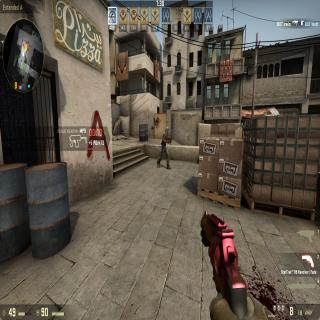T-Body: (160, 126, 170, 169)
T-Head: (165, 125, 169, 134)
